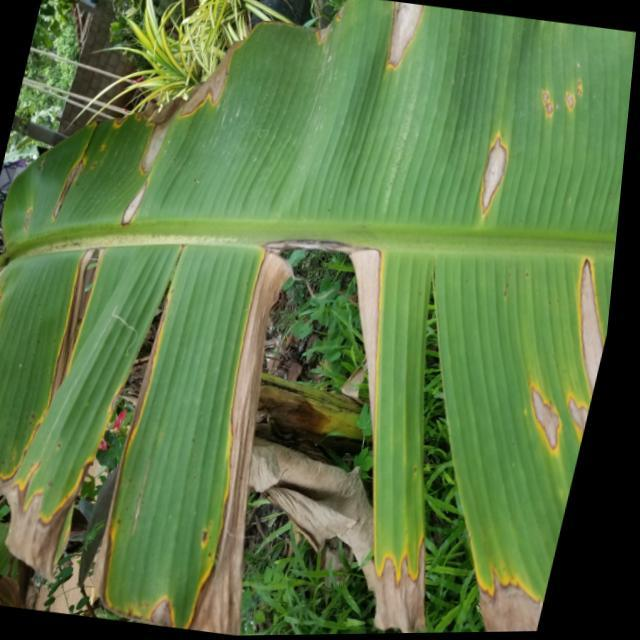Early_rust: (0, 227, 436, 640), (485, 258, 640, 447), (395, 113, 540, 239), (370, 498, 447, 634), (441, 549, 548, 640), (509, 73, 613, 155), (351, 0, 449, 87)
